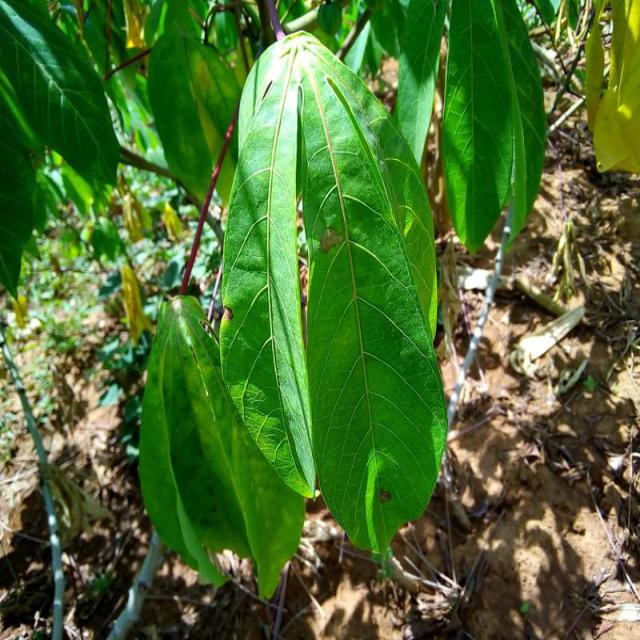cassava leaf: (217, 29, 448, 558), (137, 292, 306, 601)
